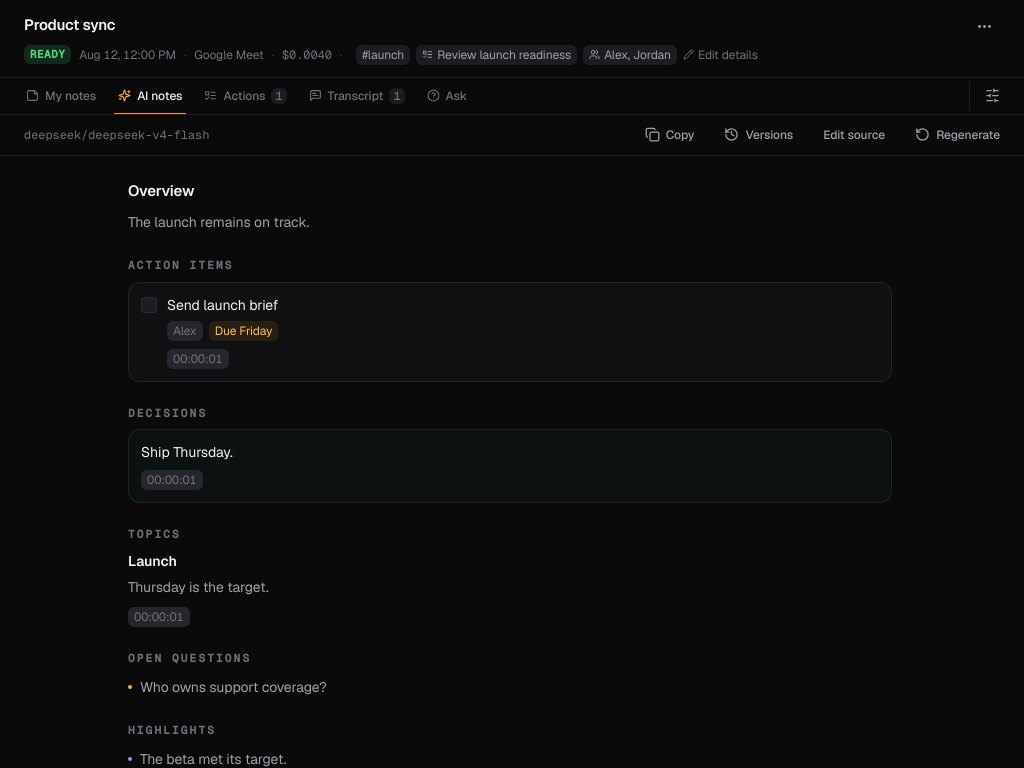
Test: MeetingWorkspace › asks a grounded follow-up question and keeps the answer in the meeting
Expected: the text "The launch remains on track." is shown, [128,213,309,231]
Click the button "Ask": (447, 96) [416,78,477,114]
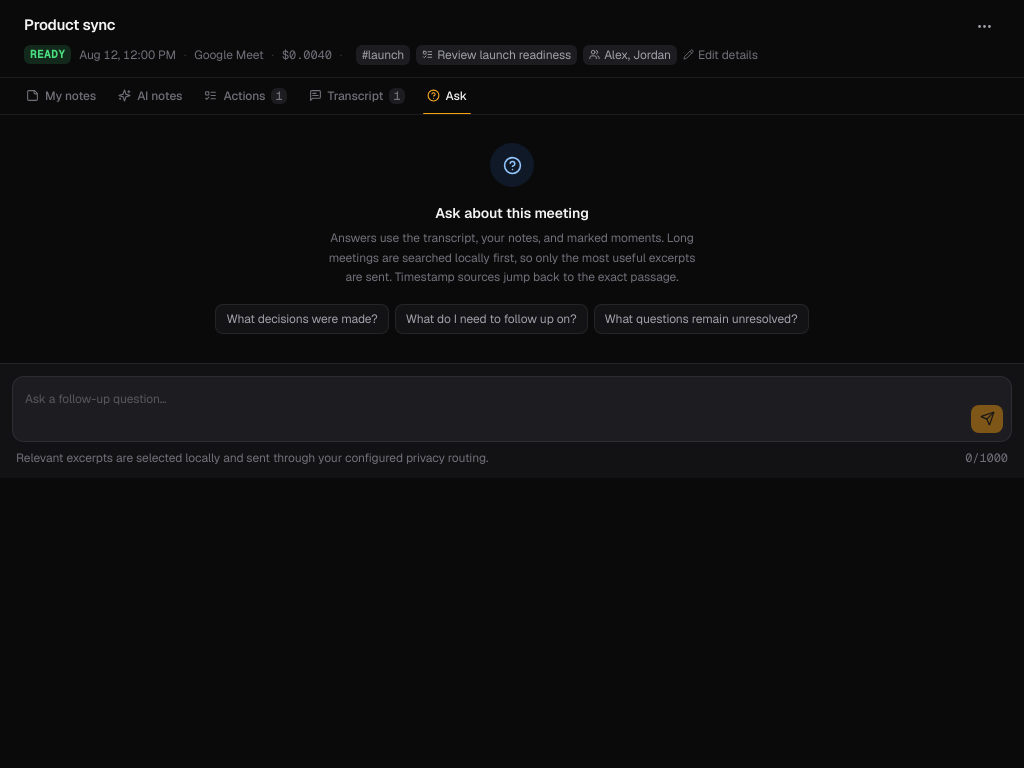
In the text box named "Ask a question about this meeting": (492, 408) [21,384,963,432], type "What was decided?"
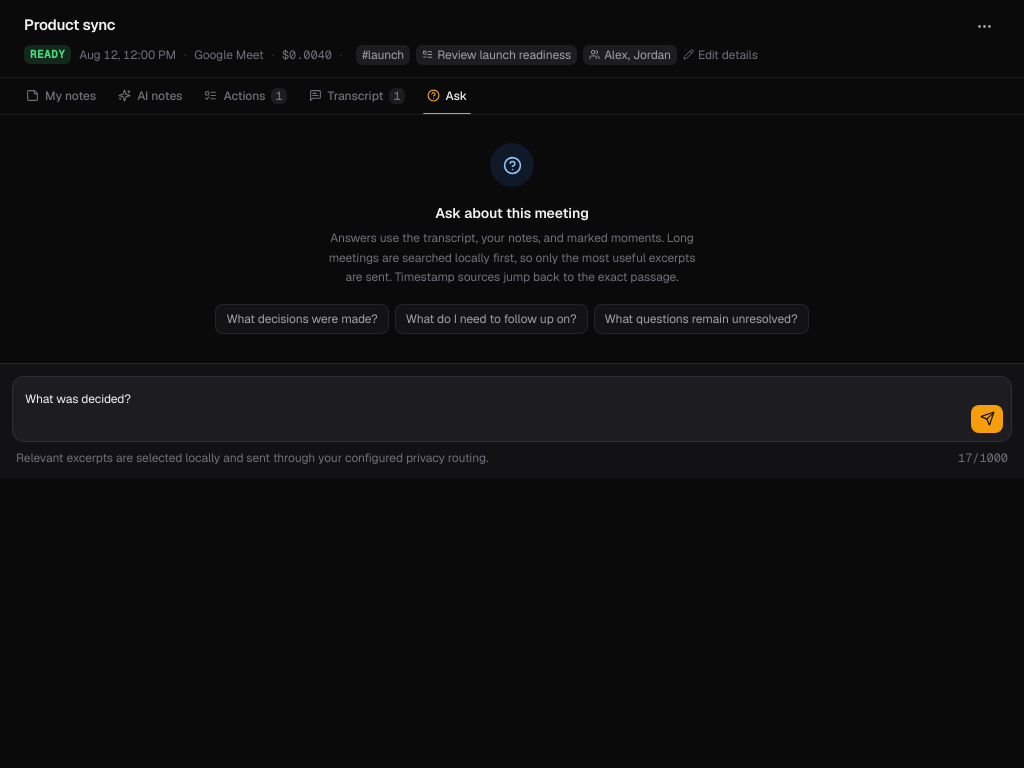
Click the button named "Ask meeting": (987, 418) [971,404,1003,432]
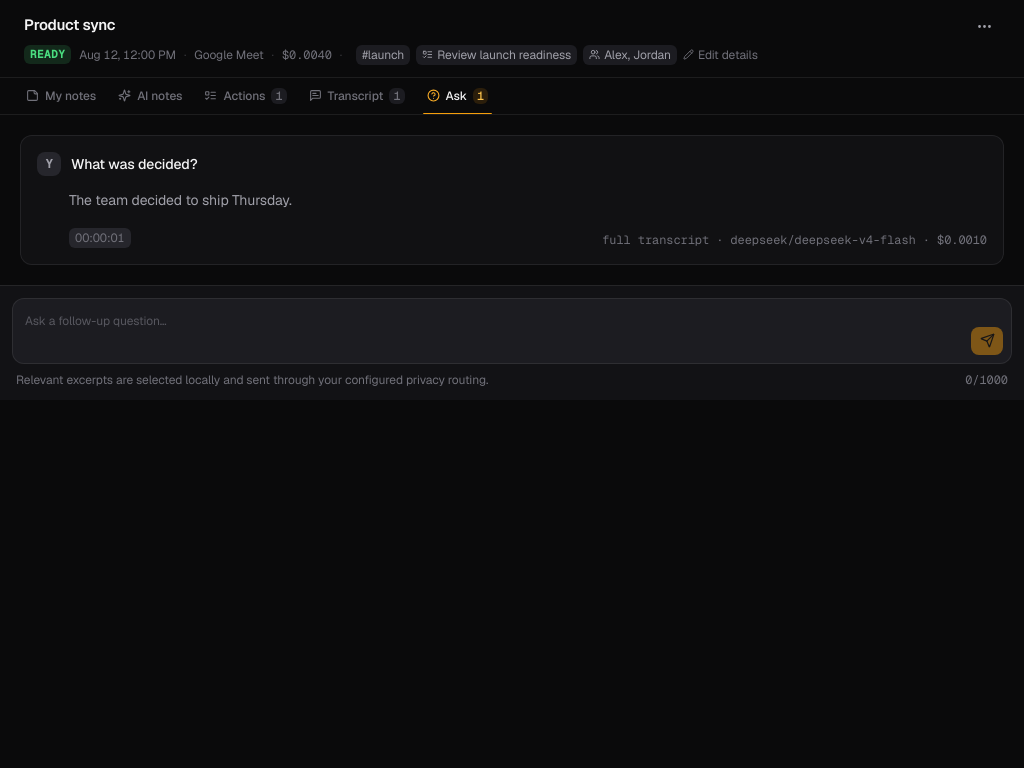
Expected: the text "The team decided to ship Thursday." is shown, [69,190,292,208]
Expected: the text "full transcript · deepseek/deepseek-v4-flash · $0.0010" is shown, [602,232,987,248]
Click the button "00:00:01": (100, 238) [69,228,131,248]
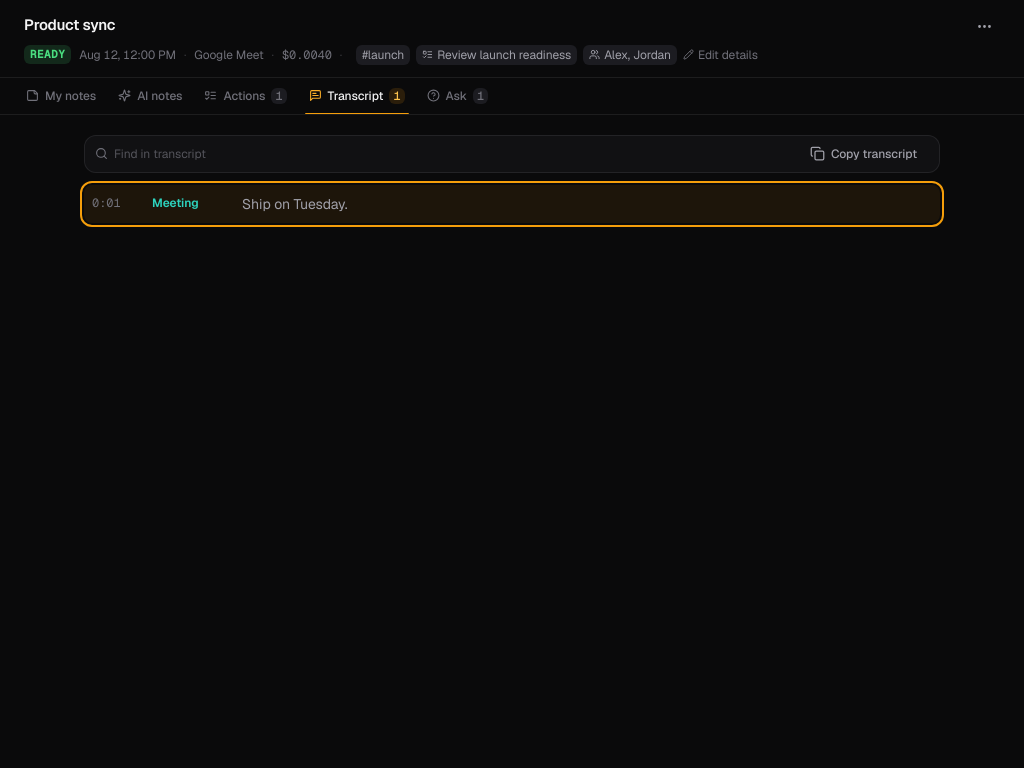
Expected: the field labelled "Find in transcript" is shown, [114,136,792,172]
